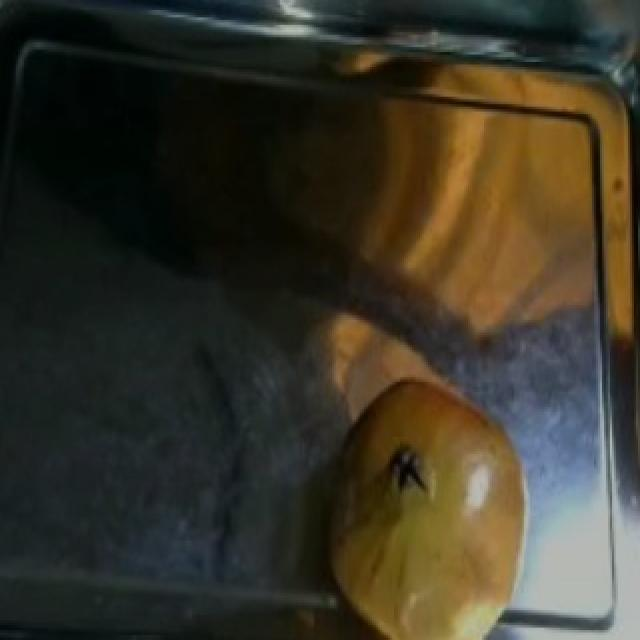fruit: (312, 357, 546, 608)
